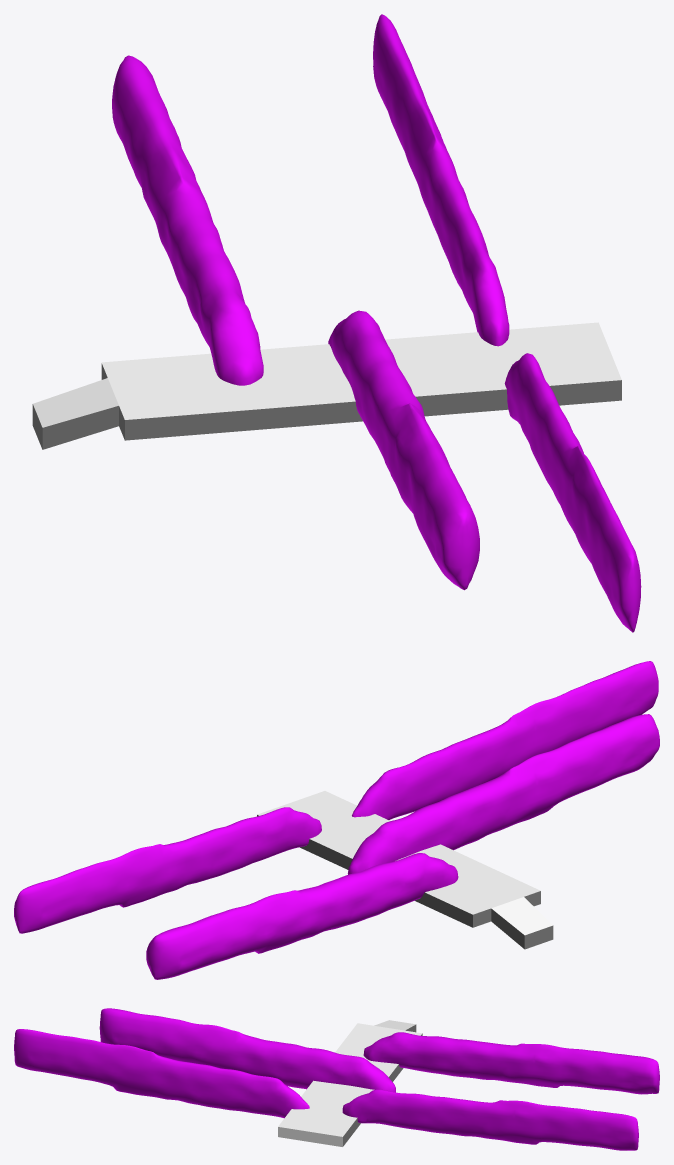
Rendered from Glas Platform.fbx.
3 views of the same model, one above another, from view 1: azimuth 30°, elevation 25°; view 2: azimuth 150°, elevation 25°; view 3: azimuth 270°, elevation 25° (orthographic). The views are drawn at different scales.
Visible parts, largest first — view 1: Glas_Platform, Tentakles1__1_, Tentakles1__2_, Tentakles1, Tentakles1__3_; view 2: Tentakles1__2_, Tentakles1__3_, Tentakles1__1_, Tentakles1, Glas_Platform; view 3: Tentakles1__3_, Tentakles1__1_, Tentakles1, Tentakles1__2_, Glas_Platform.
Boxes of the visible parts, x1,y1,x2,y2 form: Glas_Platform: (32, 322, 621, 449); Tentakles1__1_: (112, 55, 263, 385); Tentakles1__2_: (328, 310, 479, 590); Tentakles1: (373, 14, 509, 346); Tentakles1__3_: (504, 353, 641, 632); Tentakles1__2_: (347, 714, 659, 874); Tentakles1__3_: (352, 661, 658, 819); Tentakles1__1_: (146, 853, 458, 979); Tentakles1: (14, 807, 321, 933); Glas_Platform: (257, 791, 553, 949); Tentakles1__3_: (14, 1029, 309, 1118); Tentakles1__1_: (363, 1032, 659, 1094); Tentakles1: (342, 1089, 638, 1150); Tentakles1__2_: (99, 1008, 395, 1092); Glas_Platform: (278, 1020, 422, 1146).
Bounding box in the file's own units: 8088 × 1492 × 15158.
